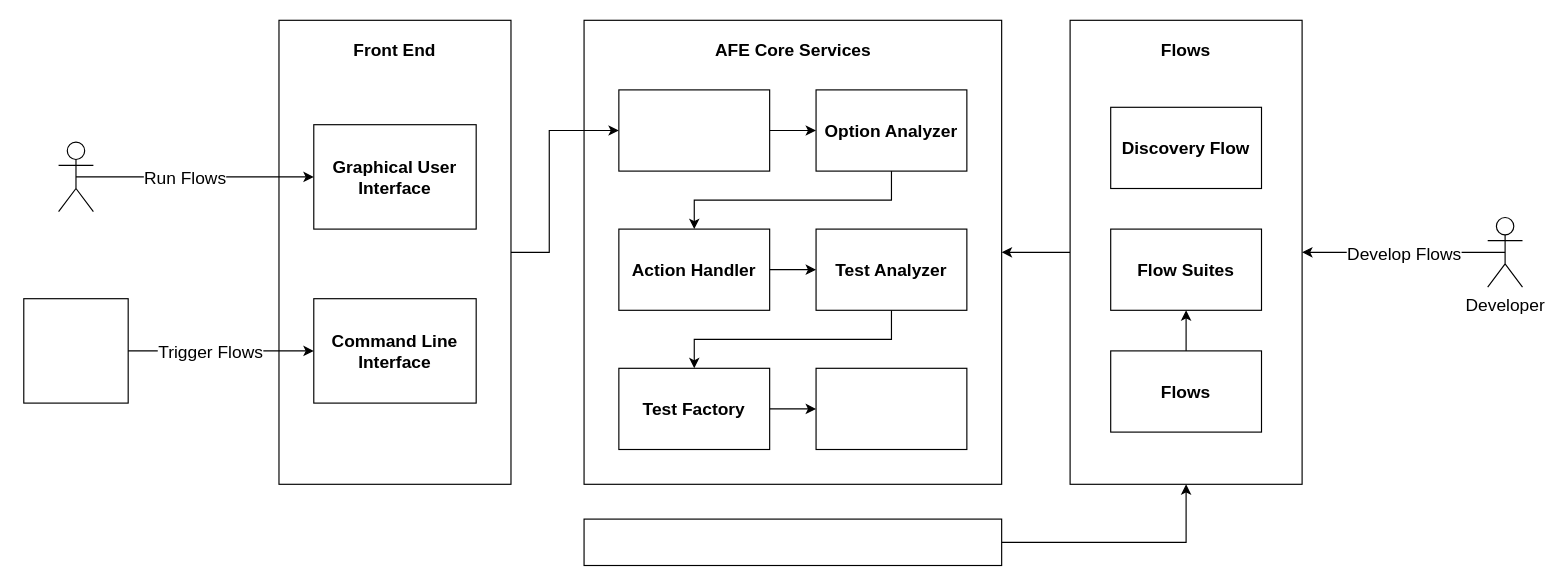
The diagram is 1565 pixels wide and 586 high, and some of its shapes have lost their labels. Each missing label, with the centre of its shape:
"AFE Controller" goes at (x=694, y=130).
"Common Flow Utilities" goes at (x=792, y=542).
"Execution Engine" goes at (x=891, y=408).
"IT Automation Tools" goes at (x=75, y=350).
"Tester/Devops Engineer" goes at (x=75, y=176).
